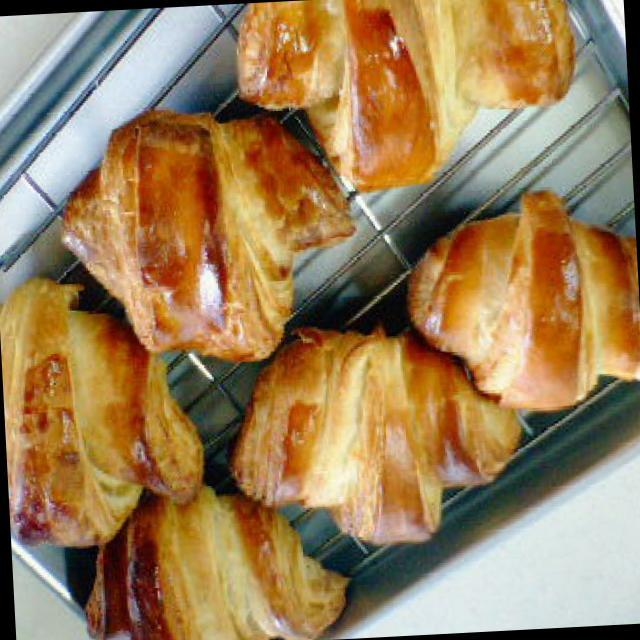Croissant: (64, 91, 350, 386)
